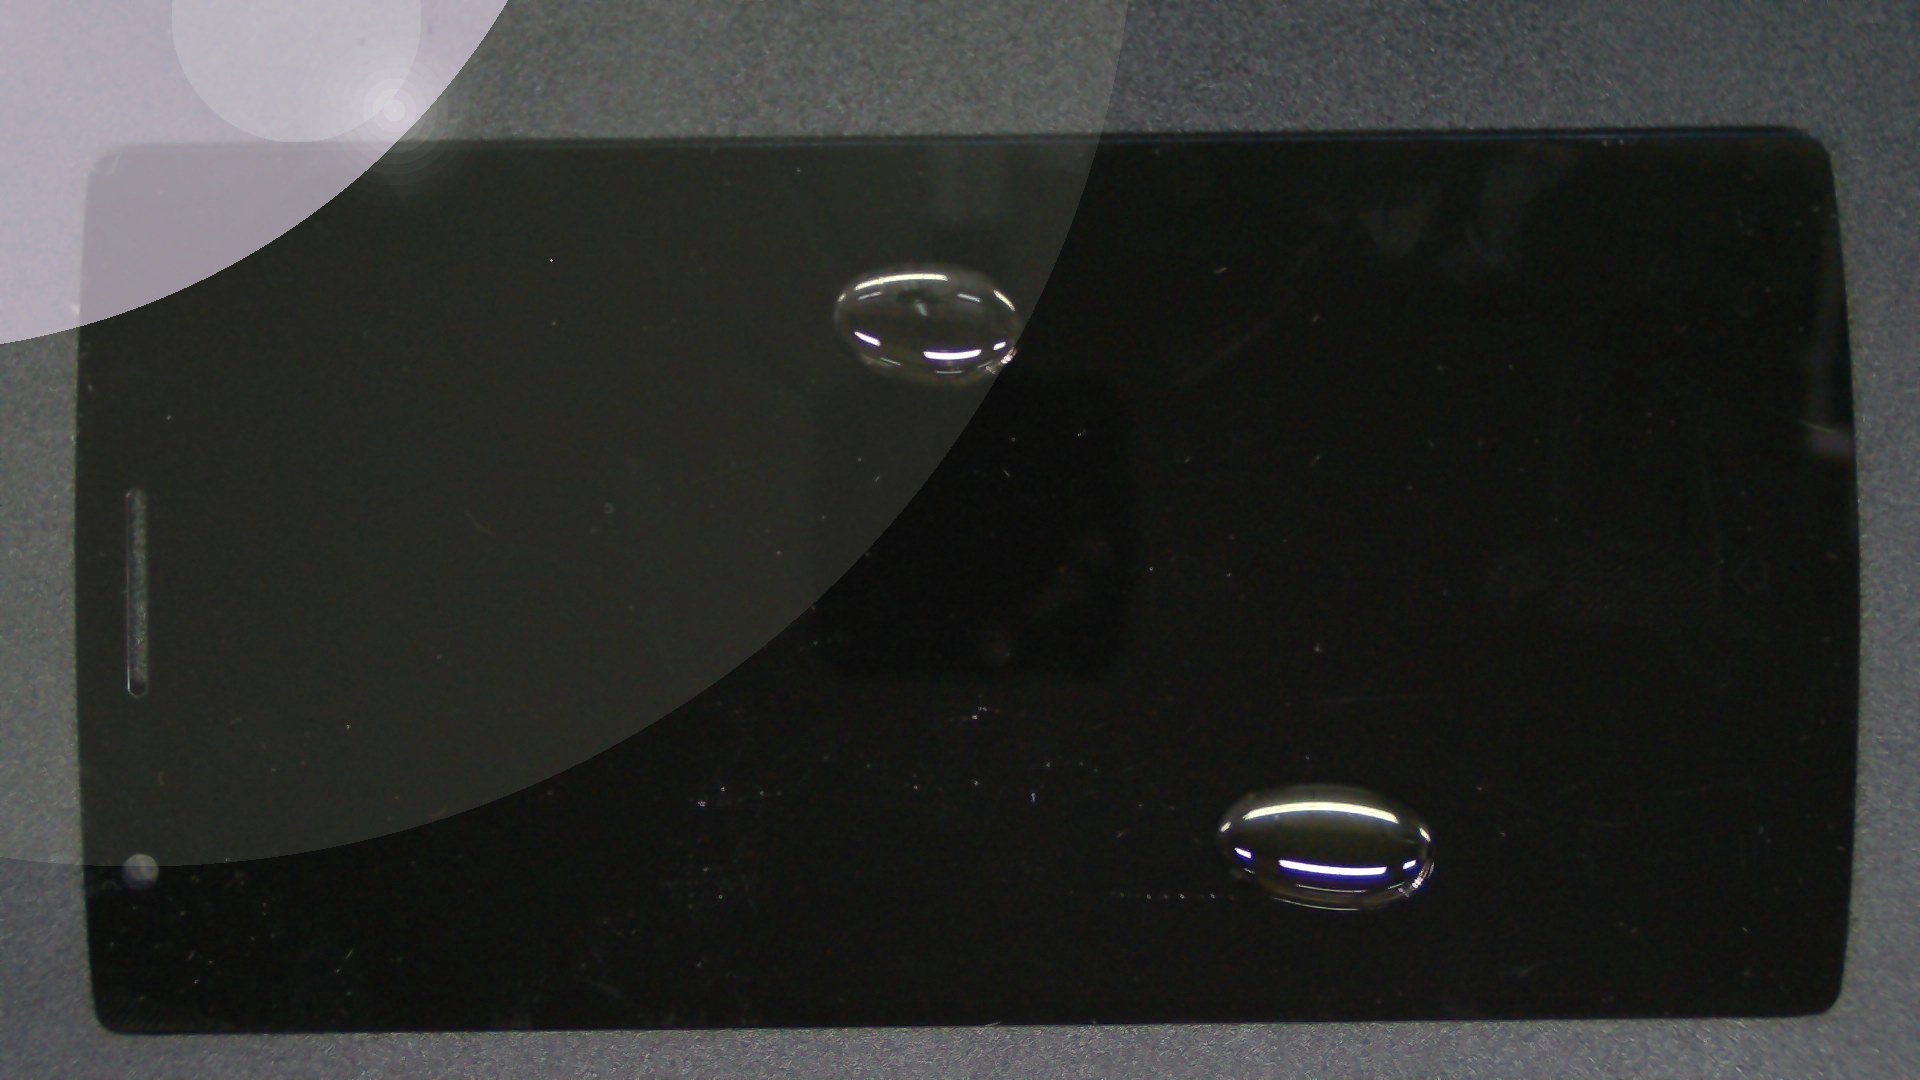oil: (658, 390, 1920, 1080), (458, 131, 1369, 393)
